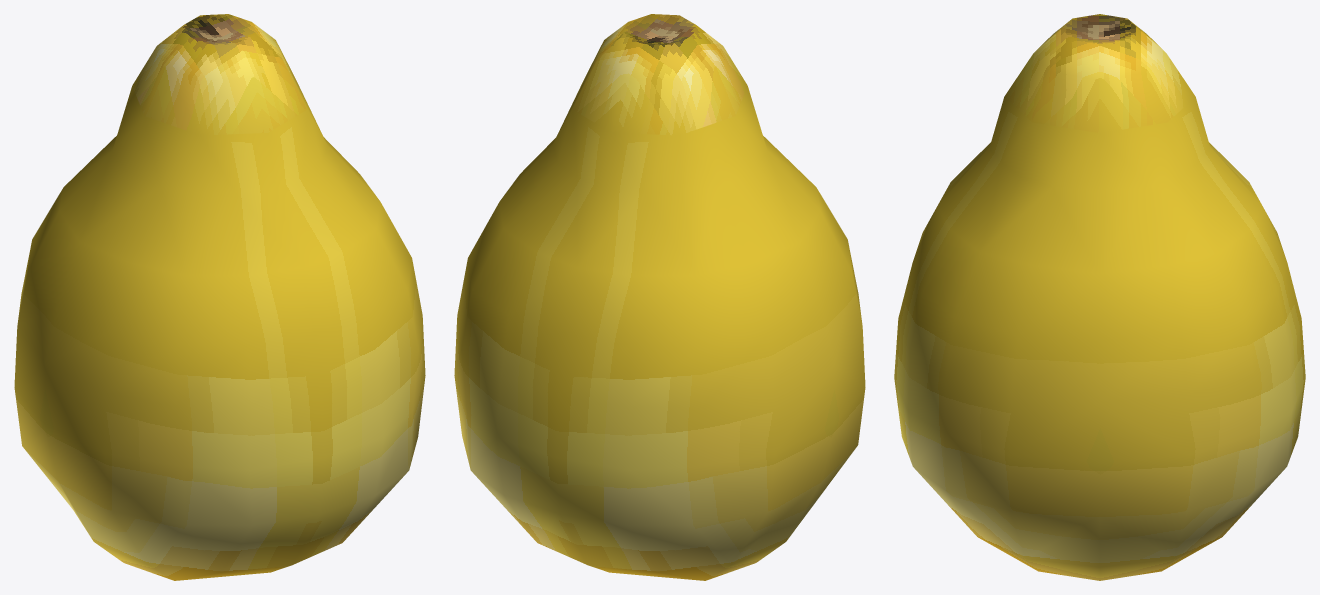
The model's file is Papaya.obj.
3 views of the same model, side by side, from view 1: azimuth 30°, elevation 25°; view 2: azimuth 150°, elevation 25°; view 3: azimuth 270°, elevation 25° (orthographic).
Parts seen in each view (by area): view 1: n0b0; view 2: n0b0; view 3: n0b0.
Boxes of the visible parts, bbox=[...] form: n0b0: bbox=[14, 14, 425, 580]; n0b0: bbox=[454, 14, 865, 580]; n0b0: bbox=[894, 14, 1305, 580].
Bounding box in the file's own units: 175 × 251 × 179.
Materials: 1 (1 with a texture image).
